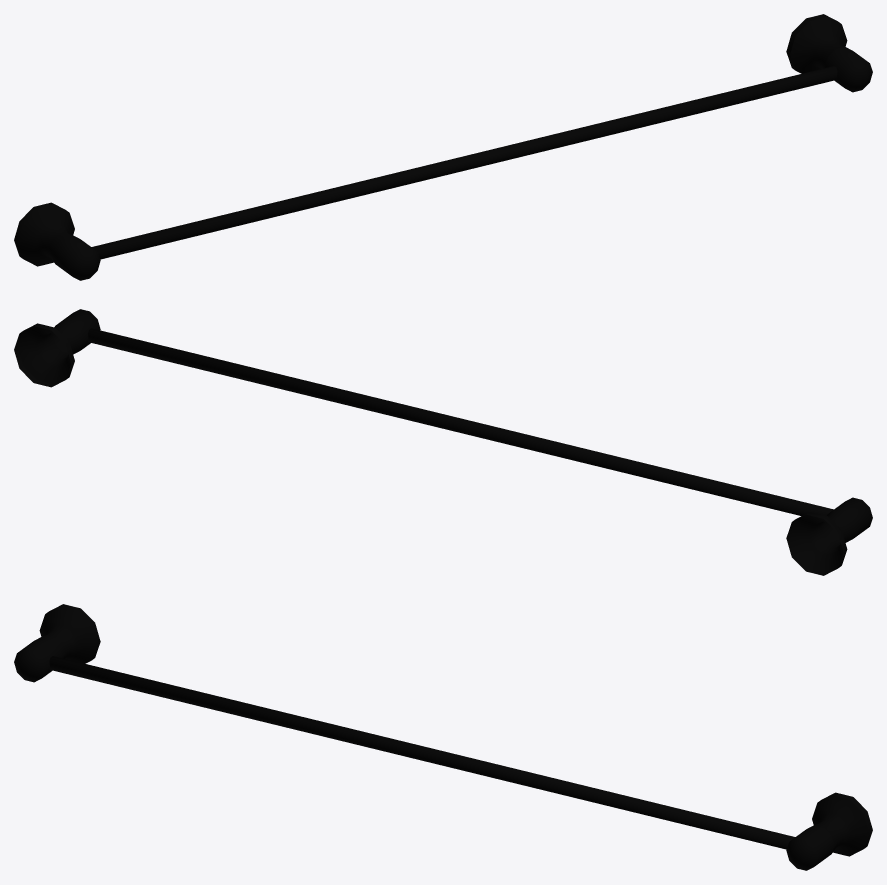
Rendered from RoomCurtainRod_Small.FBX.
3 views of the same model, one above another, from view 1: azimuth 30°, elevation 25°; view 2: azimuth 150°, elevation 25°; view 3: azimuth 330°, elevation 25° (orthographic).
Visible parts, largest first — view 1: Curtain_Rod_small; view 2: Curtain_Rod_small; view 3: Curtain_Rod_small.
Boxes of the visible parts, <box> form: Curtain_Rod_small: <box>14,14,872,280</box>; Curtain_Rod_small: <box>14,309,872,575</box>; Curtain_Rod_small: <box>14,604,872,870</box>.
Size of the model in its own units: 1.17 by 0.0768 by 0.1132.
